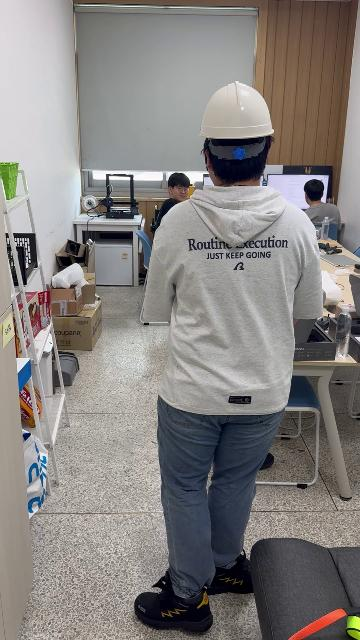helmet_worn: (198, 81, 275, 139)
shoe_worn: (135, 573, 213, 632), (205, 552, 254, 595)
vest_not_worn: (160, 192, 304, 411)
